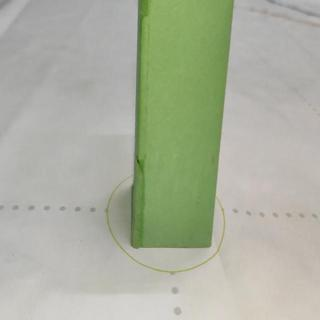greenbox: (132, 0, 233, 249), (179, 142, 187, 142)
